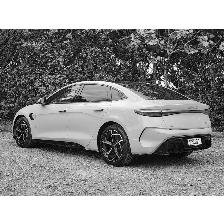EV: (14, 77, 214, 167)
